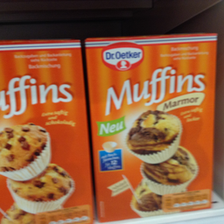cake: (85, 34, 220, 223), (1, 39, 83, 224)
